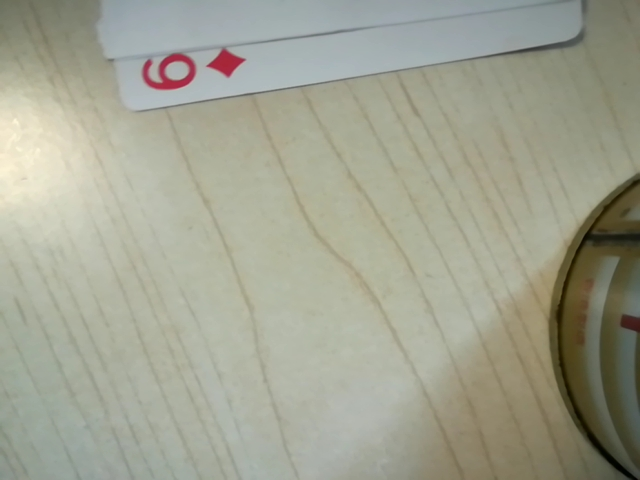fk 6: (128, 41, 245, 102)
